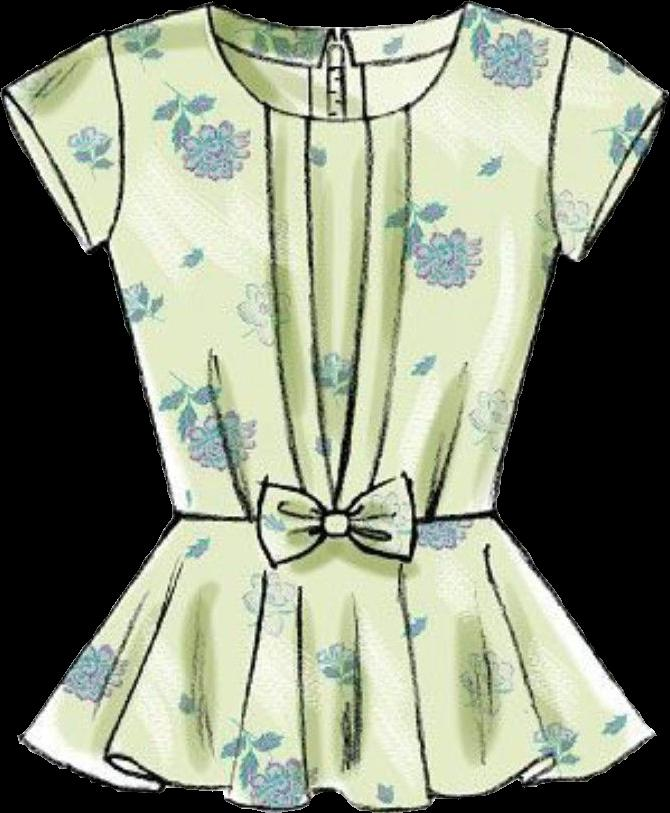Bodice: (18, 3, 654, 811)
Neckline: (205, 2, 473, 124), (169, 503, 500, 523)
Sleeve: (0, 27, 115, 253), (555, 32, 668, 261)
Sleeveline: (551, 26, 580, 258), (101, 27, 126, 249)
Waistline: (13, 730, 656, 812)
